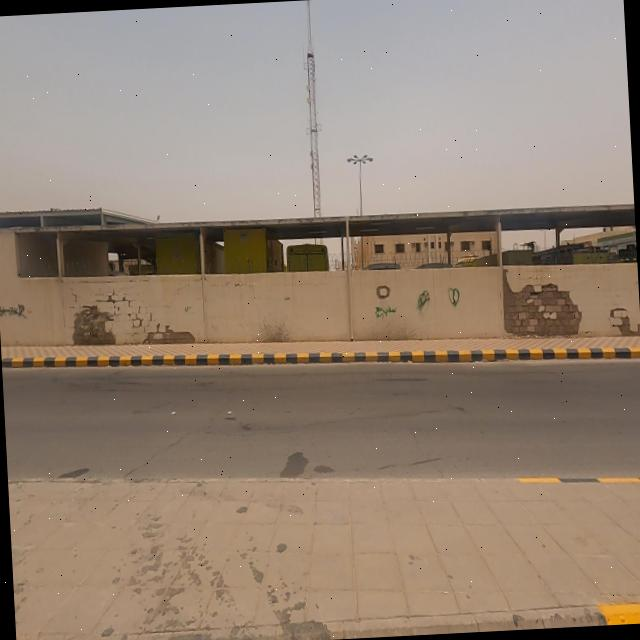Graffiti: (375, 305, 400, 320), (448, 288, 461, 311), (418, 290, 430, 313)
